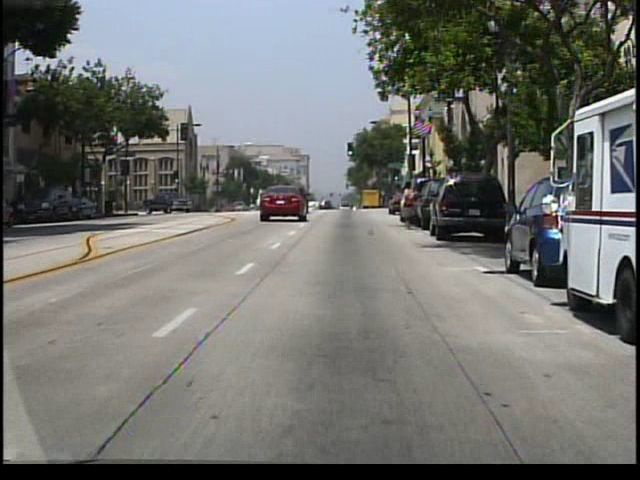person: (395, 180, 421, 232)
